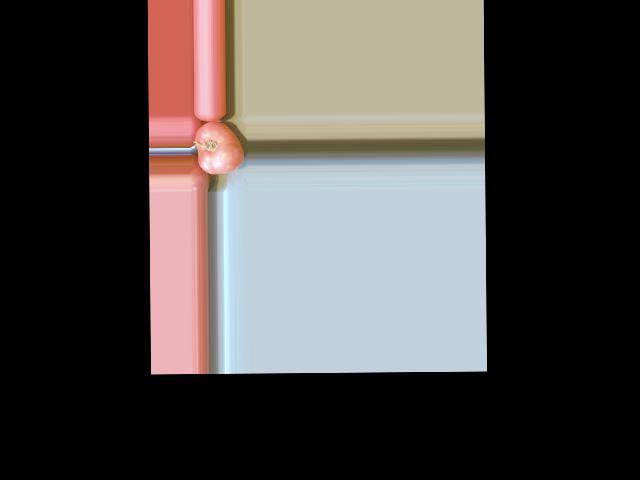tomato: (195, 121, 244, 174)
